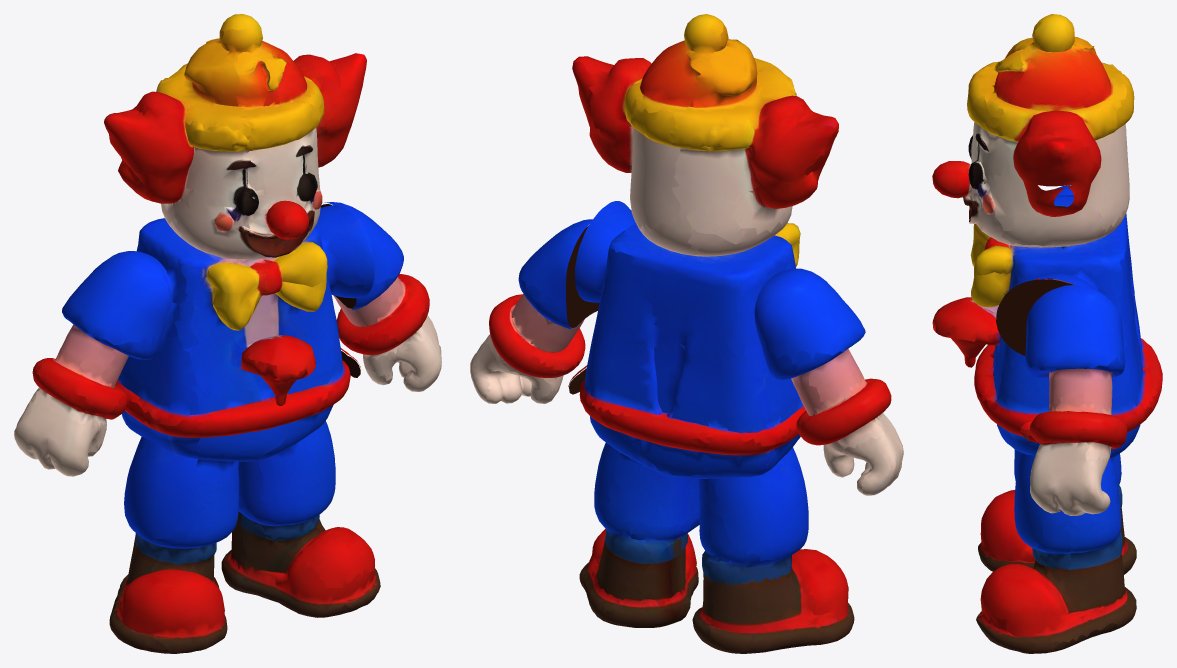
File: crusty.glb
3 renders of one model, left to right at view 1: azimuth 30°, elevation 25°; view 2: azimuth 150°, elevation 25°; view 3: azimuth 270°, elevation 25°, orthographic. The views are drawn at different scales.
Parts seen in each view (by area): view 1: head, torso, legL, legR, armL, armR; view 2: torso, head, legL, armL, legR, armR; view 3: head, torso, legR, armR, legL.
Part boxes in pixels (x1,y1,x2,y2): head: [104, 14, 366, 259]; torso: [116, 205, 374, 438]; legL: [109, 411, 273, 653]; legR: [221, 405, 380, 617]; armL: [14, 252, 160, 476]; armR: [320, 202, 441, 391]; torso: [575, 201, 805, 456]; head: [572, 14, 838, 256]; legL: [657, 434, 854, 653]; armL: [770, 270, 903, 495]; legR: [579, 416, 699, 627]; armR: [470, 219, 599, 403]; head: [932, 14, 1134, 247]; torso: [932, 188, 1162, 436]; legR: [976, 424, 1140, 653]; armR: [1020, 285, 1127, 515]; legL: [978, 450, 1136, 574].
Bounding box in the file's own units: 2.26 × 3.04 × 1.09.
Materials: 1 (1 with a texture image).
